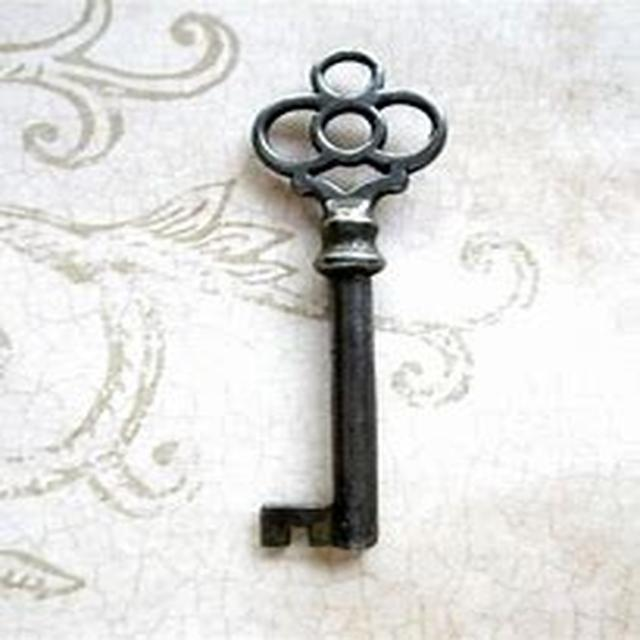key: (244, 43, 473, 568)
